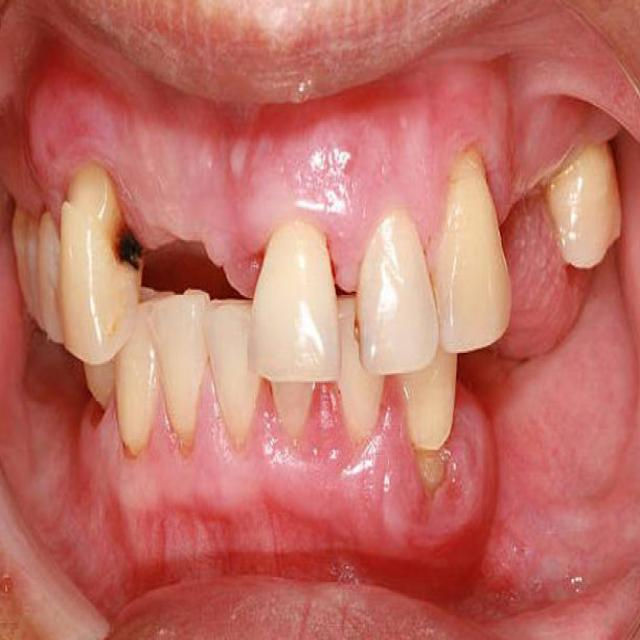caries: (93, 206, 150, 286)
